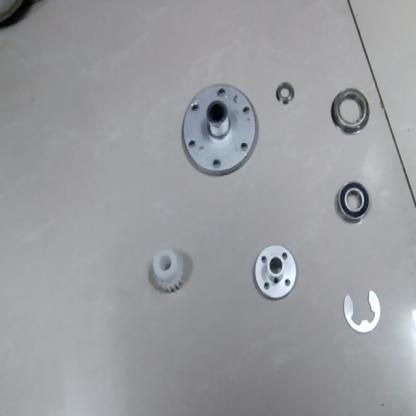FOD: (179, 84, 259, 179), (250, 241, 299, 301), (339, 285, 383, 338), (328, 87, 372, 137), (332, 179, 374, 228), (146, 246, 186, 294), (274, 80, 295, 108)
